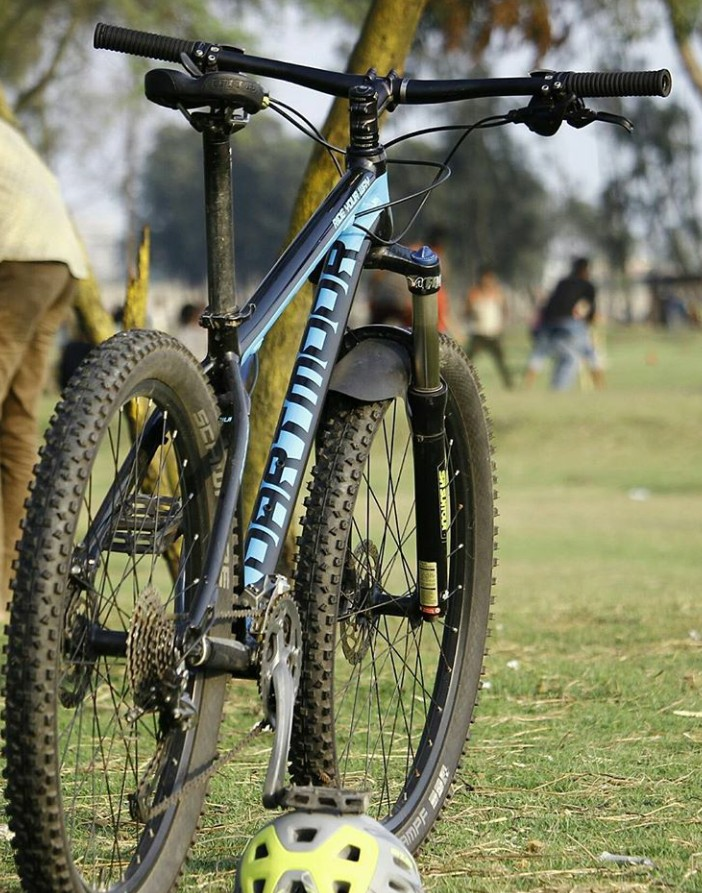bicycle: (29, 24, 660, 872)
